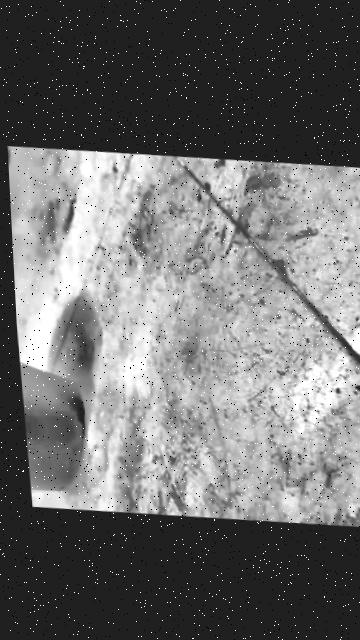pot: (19, 338, 91, 503)
